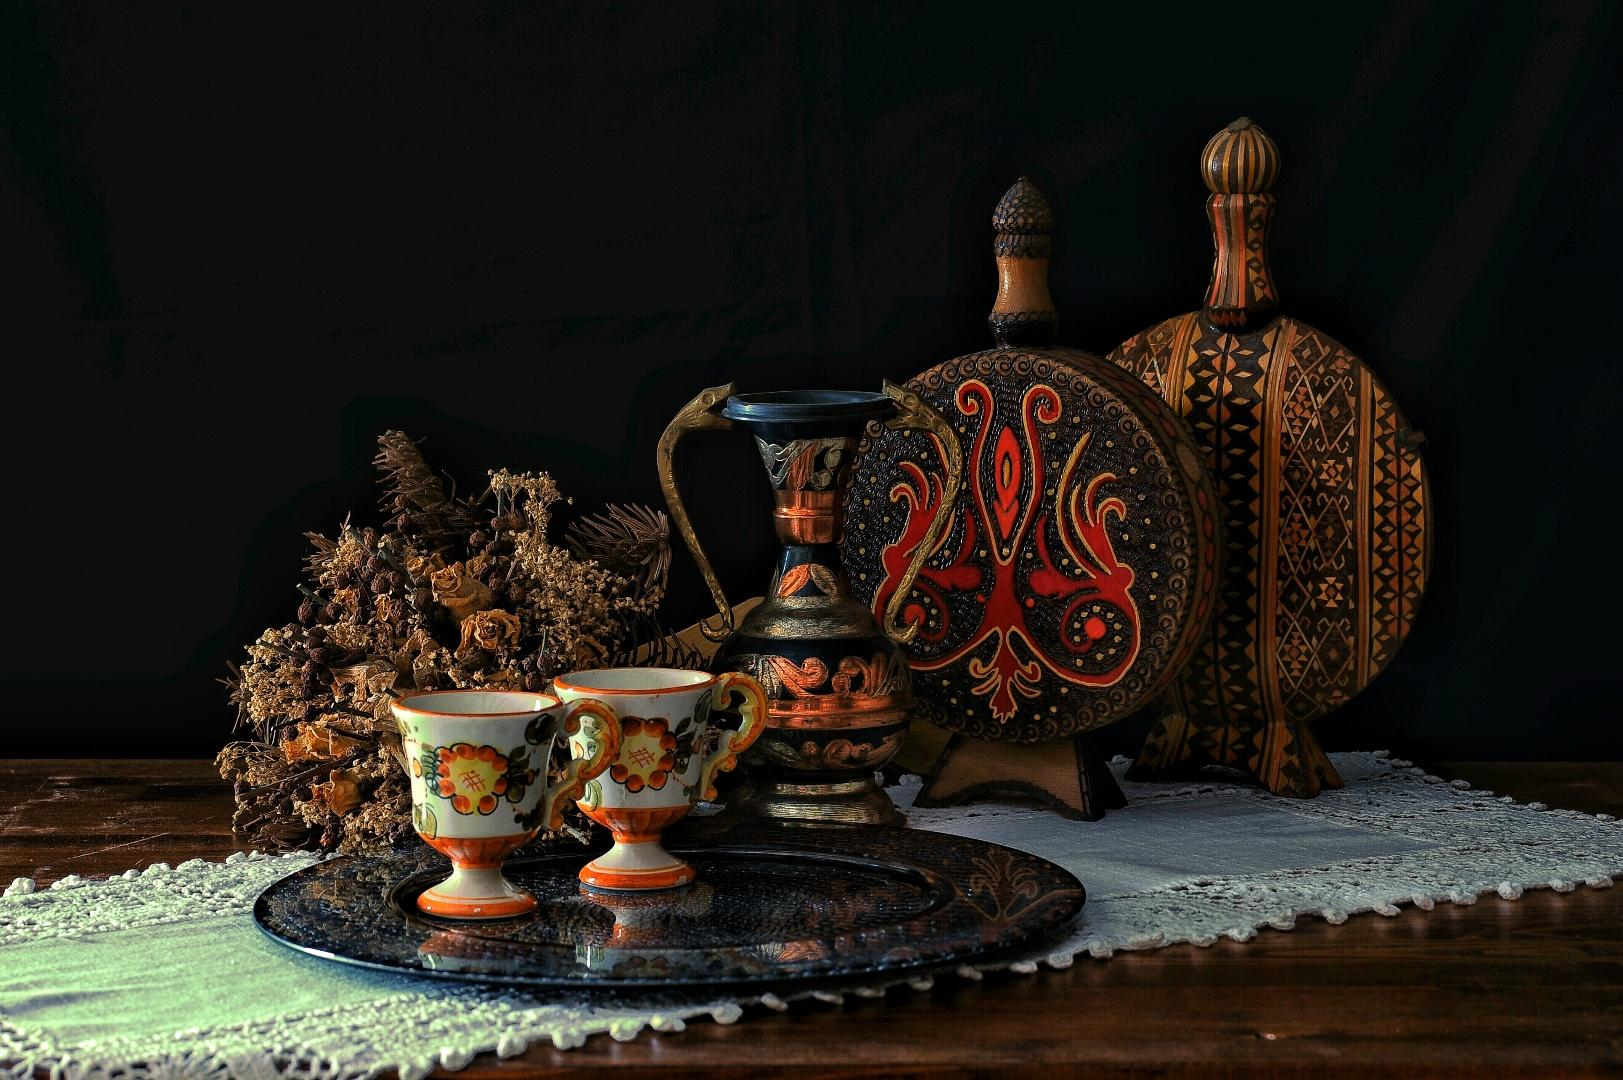metal-cans: (258, 933, 736, 1080)
